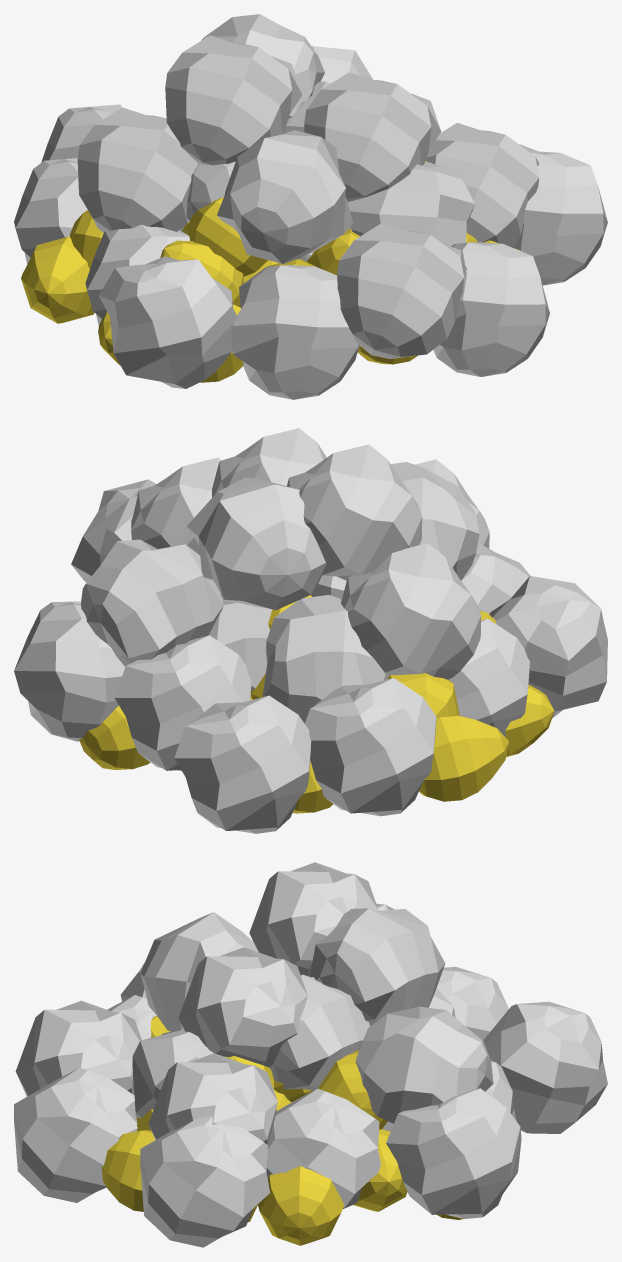
File: popcorn_v2.glb
The picture shows the model from 3 angles, top to bottom: view 1: azimuth 30°, elevation 25°; view 2: azimuth 150°, elevation 25°; view 3: azimuth 270°, elevation 25°; orthographic projection. The views are drawn at different scales.
Parts seen in each view (by area): view 1: Sphere.040, Sphere.058, Sphere.043, Sphere.047, Sphere.056, Sphere.055, Sphere.054, Sphere.044, Sphere.045, Sphere.057, Sphere.050, Sphere.039 (+12 smaller); view 2: Sphere.037, Sphere.039, Sphere.055, Sphere.052, Sphere.049, Sphere.056, Sphere.035, Sphere.036, Sphere.040, Sphere.048, Sphere.038, Sphere.007 (+12 smaller); view 3: Sphere.035, Sphere.045, Sphere.037, Sphere.044, Sphere.049, Sphere.054, Sphere.052, Sphere.042, Sphere.056, Sphere.058, Sphere.057, Sphere.051 (+9 smaller).
Boxes of the visible parts, x1,y1,x2,y2 form: Sphere.040: [98, 256, 237, 388]; Sphere.058: [337, 223, 466, 358]; Sphere.043: [231, 265, 359, 399]; Sphere.047: [217, 130, 353, 263]; Sphere.056: [165, 35, 302, 165]; Sphere.055: [77, 107, 198, 232]; Sphere.054: [304, 72, 441, 203]; Sphere.044: [433, 242, 549, 376]; Sphere.045: [512, 151, 607, 285]; Sphere.057: [426, 123, 539, 247]; Sphere.050: [348, 162, 474, 246]; Sphere.039: [14, 158, 87, 264]; Sphere.037: [174, 695, 311, 833]; Sphere.039: [305, 678, 436, 816]; Sphere.055: [341, 543, 481, 679]; Sphere.052: [186, 477, 326, 610]; Sphere.049: [81, 539, 223, 666]; Sphere.056: [287, 444, 422, 580]; Sphere.035: [14, 601, 125, 741]; Sphere.036: [114, 635, 251, 771]; Sphere.040: [489, 576, 607, 718]; Sphere.048: [262, 595, 389, 723]; Sphere.038: [448, 618, 529, 737]; Sphere.007: [419, 715, 508, 801]; Sphere.035: [386, 1088, 521, 1218]; Sphere.045: [140, 1115, 269, 1247]; Sphere.037: [483, 1001, 607, 1133]; Sphere.044: [14, 1067, 137, 1202]; Sphere.049: [355, 1006, 493, 1123]; Sphere.054: [178, 947, 307, 1067]; Sphere.052: [308, 908, 445, 1026]; Sphere.042: [266, 1088, 380, 1208]; Sphere.056: [249, 862, 378, 975]; Sphere.058: [15, 1000, 141, 1096]; Sphere.057: [148, 1053, 277, 1144]; Sphere.051: [269, 974, 369, 1090].
Bounding box in the file's own units: 2.13 × 1.16 × 2.26.
